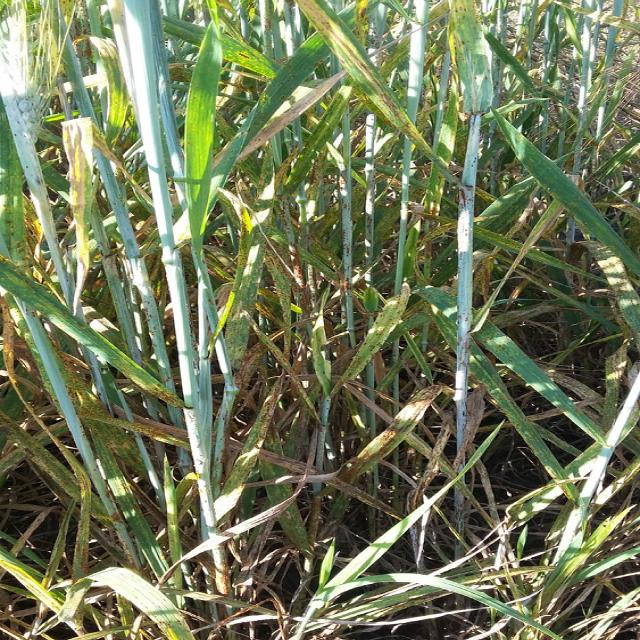wheat-stemrust: (337, 388, 444, 484), (225, 382, 283, 485), (262, 338, 315, 412)
